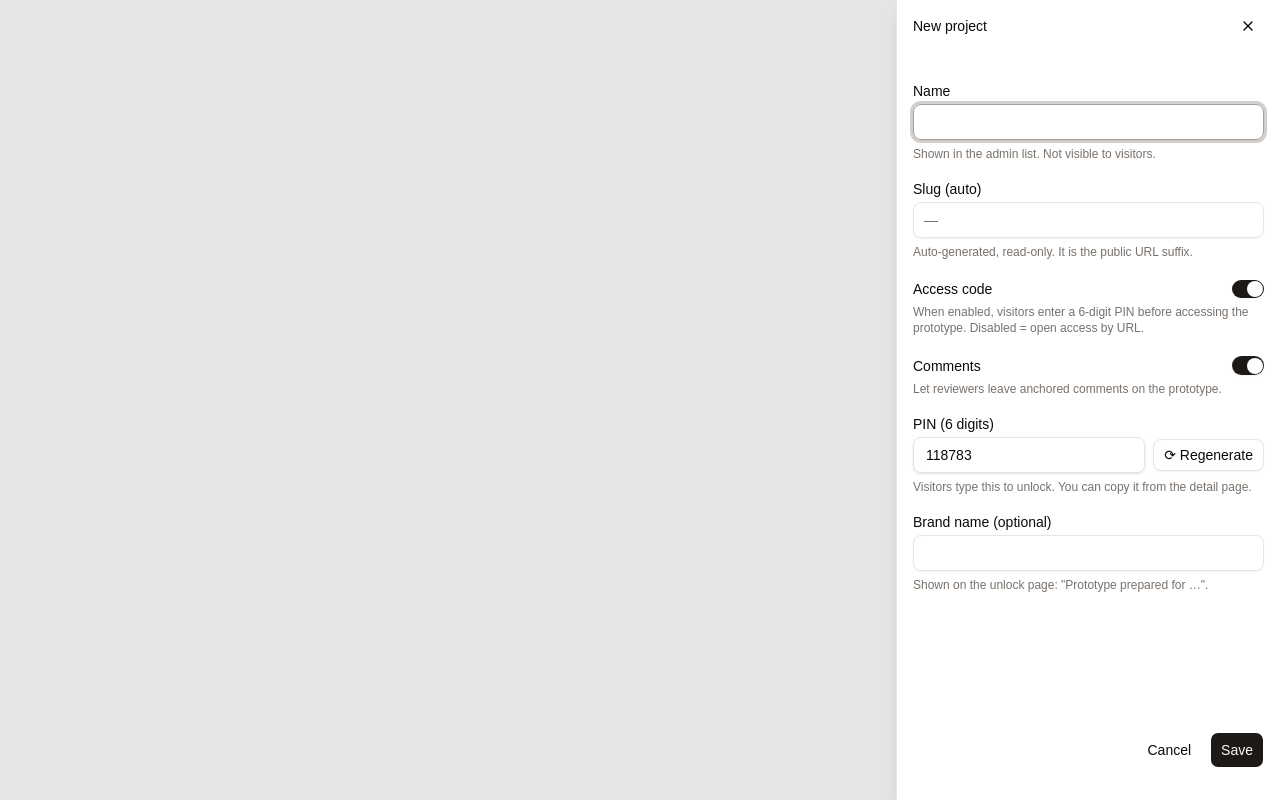
ProjectForm — comments_enabled › création : comments suit le code tant que non touché
Expected: the 2nd switch named "comment" is checked, [1232, 356, 1264, 375]
Click the switch named "access code" in the row of "Access code". click: point(1248, 289)
box: [1232, 280, 1264, 298]
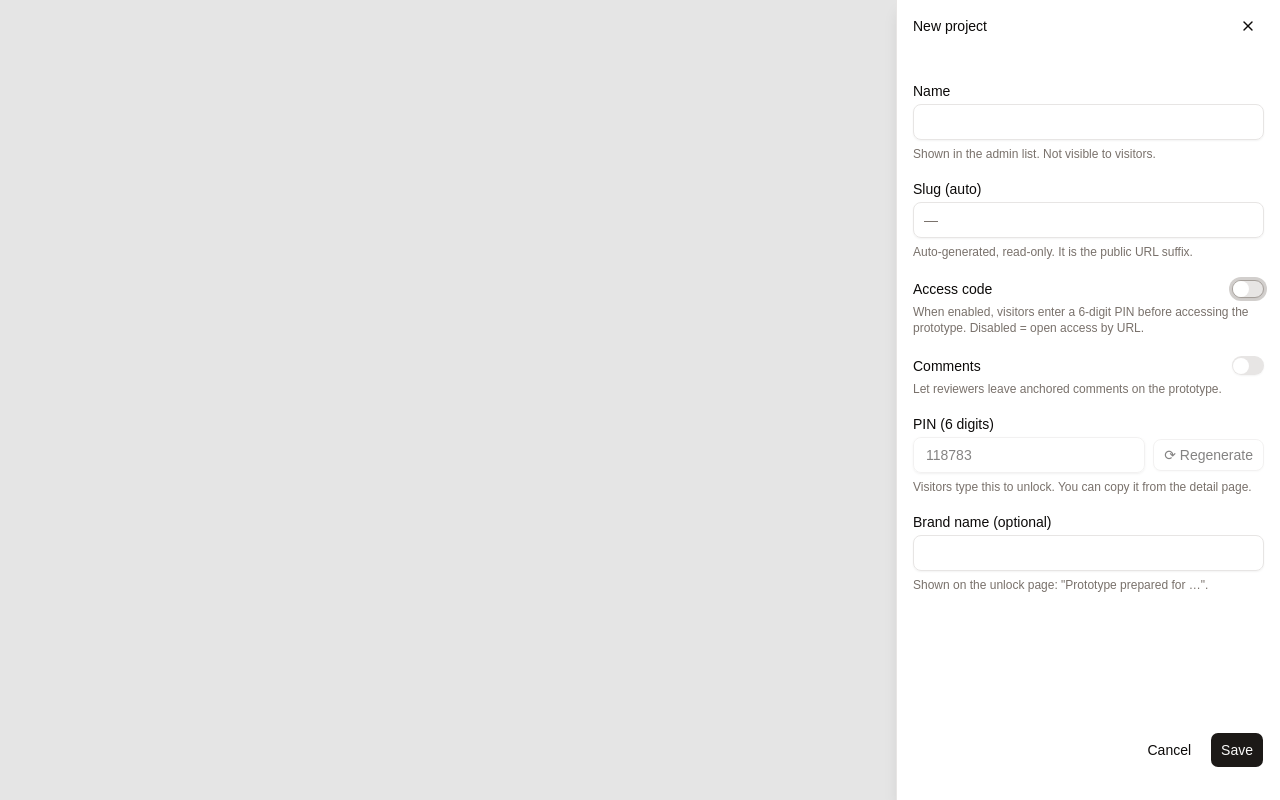
Expected: the 2nd switch named "comment" is not checked, [1232, 356, 1264, 375]
